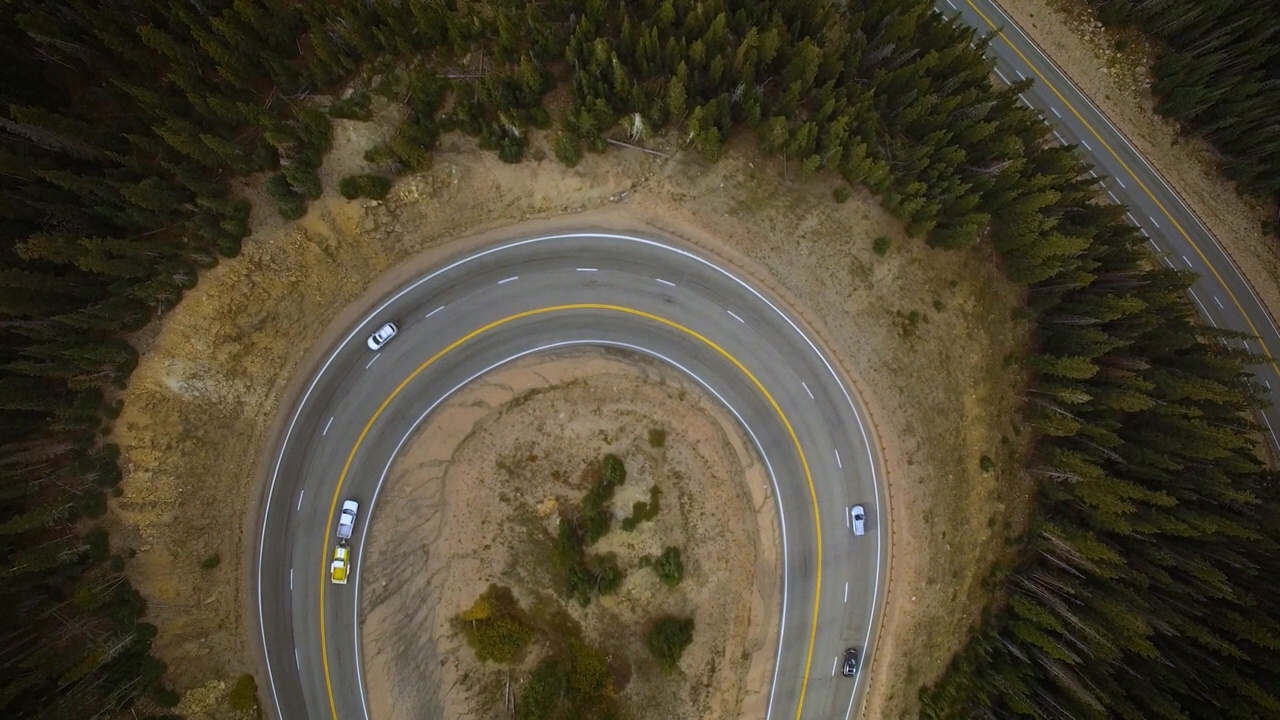araba: (326, 541, 350, 587), (365, 320, 400, 351), (838, 645, 861, 677), (848, 503, 866, 538)
kamyonet: (334, 496, 358, 543)
